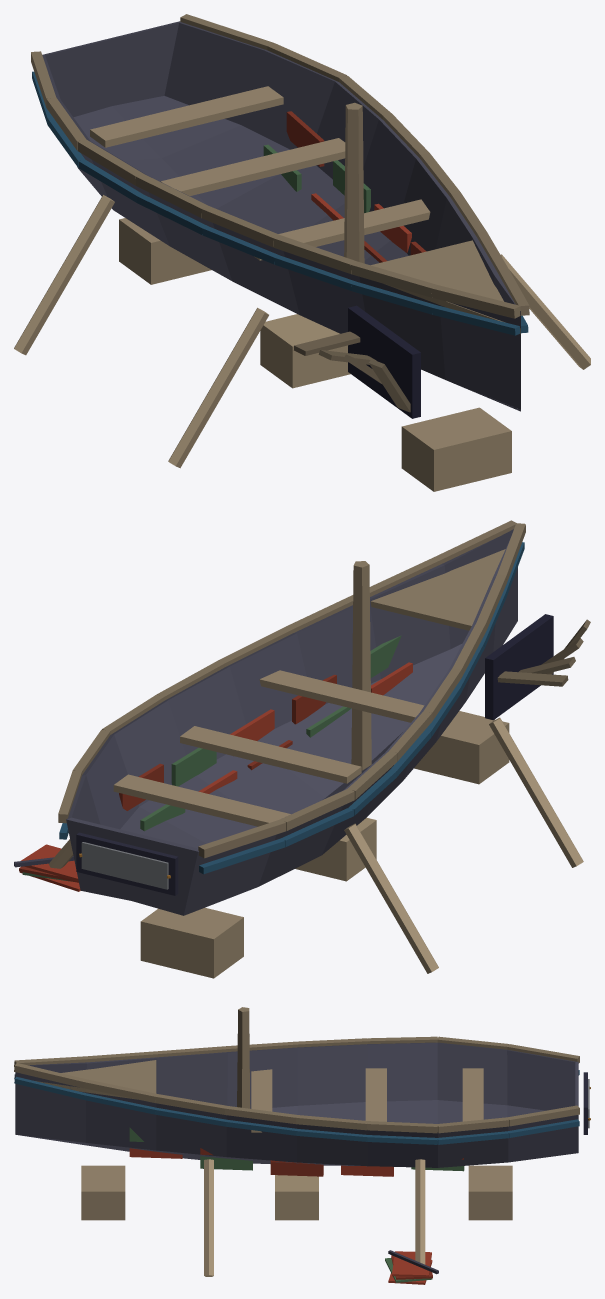
Rendered from gannet_hulk.glb.
3 views of the same model, one above another, from view 1: azimuth 30°, elevation 25°; view 2: azimuth 150°, elevation 25°; view 3: azimuth 270°, elevation 25° (orthographic). The views are drawn at different scales.
Visible parts, largest first — view 1: ink_l20, driftwood_d25, driftwood_d35, driftwood_d30, driftwood_d15, tide_d35, driftwood_d20, ink_l2, driftwood_d45, coal_d30, moss_d25, coal_d15; view 2: ink_l20, driftwood_d25, driftwood_d35, driftwood_d30, driftwood_d15, tide_d35, ink_l2, moss_d25, coal_d15, silverfog_d40, driftwood_d20, ink_l6 (+2 smaller); view 3: ink_l20, driftwood_d35, driftwood_d25, tide_d35, driftwood_d30, driftwood_d15, driftwood_d20, coal_d15, moss_d25, coal_d30.
Part boxes in pixels (x1,y1,x2,y2): ink_l20: (42,21,520,411); driftwood_d25: (90,86,511,491); driftwood_d35: (31,14,529,318); driftwood_d30: (344,102,520,334); driftwood_d15: (14,195,590,468); tide_d35: (32,71,528,335); driftwood_d20: (260,314,350,388); ink_l2: (348,305,420,418); driftwood_d45: (294,331,410,412); coal_d30: (286,111,426,262); moss_d25: (263,144,370,212); coal_d15: (311,193,411,252); ink_l20: (66,529,517,915); driftwood_d25: (113,670,509,978); driftwood_d35: (58,520,525,858); driftwood_d30: (351,549,505,770); driftwood_d15: (49,717,583,973); tide_d35: (59,542,524,874); ink_l2: (485,614,553,720); moss_d25: (22,635,401,881); coal_d15: (19,662,412,891); silverfog_d40: (81,842,168,889); driftwood_d20: (295,817,376,881); ink_l6: (76,832,178,895); ink_l20: (15,1042,578,1167); driftwood_d35: (14,1036,579,1133); driftwood_d25: (81,1068,512,1220); tide_d35: (14,1070,579,1144); driftwood_d30: (35,1007,250,1108); driftwood_d15: (204,1159,425,1276); driftwood_d20: (275,1175,318,1220); coal_d15: (129,1148,432,1284); moss_d25: (129,1127,464,1282); coal_d30: (200,1148,463,1279).
Size of the model in its own units: 4 by 2.51 by 6.56.
